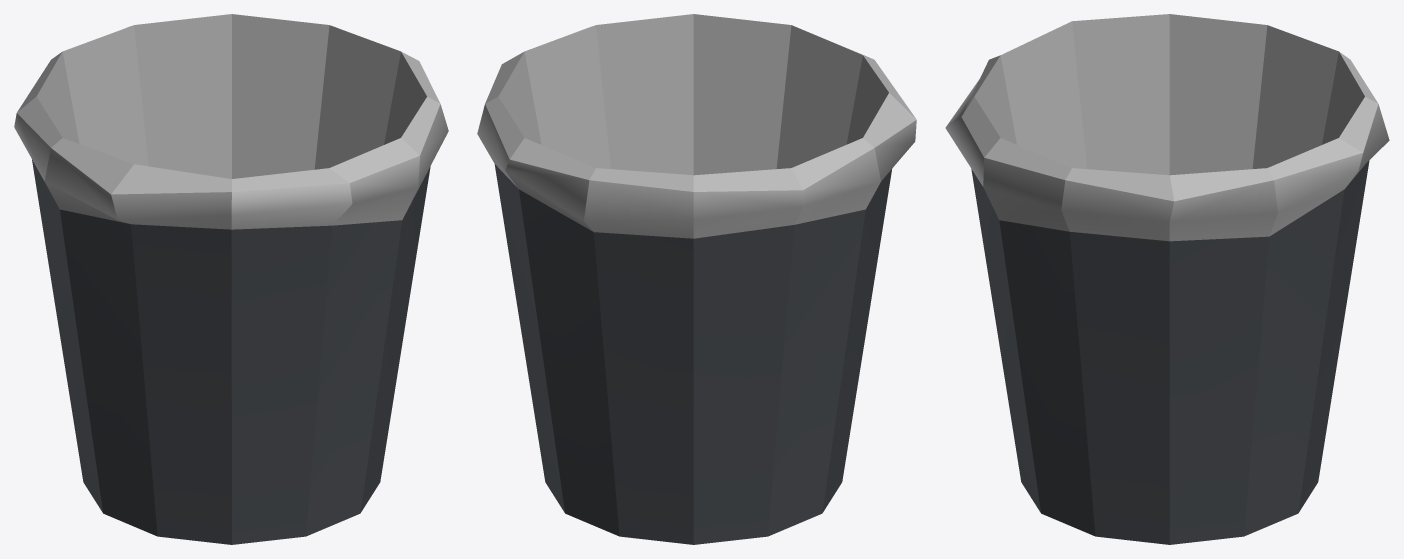
The model's file is Prop_Bin_01.glb.
The picture shows the model from 3 angles, left to right: view 1: azimuth 30°, elevation 25°; view 2: azimuth 150°, elevation 25°; view 3: azimuth 270°, elevation 25°; orthographic projection.
Visible parts, largest first — view 1: SM_Prop_Bin_01; view 2: SM_Prop_Bin_01; view 3: SM_Prop_Bin_01.
Boxes of the visible parts, box(x1,y1,x2,y2) form: SM_Prop_Bin_01: box(14, 14, 448, 544); SM_Prop_Bin_01: box(477, 14, 916, 544); SM_Prop_Bin_01: box(945, 14, 1389, 544).
Size of the model in its own units: 0.4507 by 0.445 by 0.46.
1 material, 1 textured.
